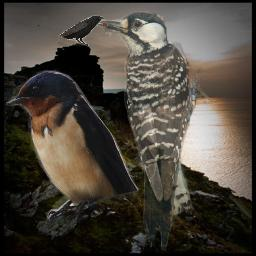Crow: (58, 15, 105, 46)
Swallow: (6, 70, 140, 224)
Woodpecker: (95, 11, 216, 254)
